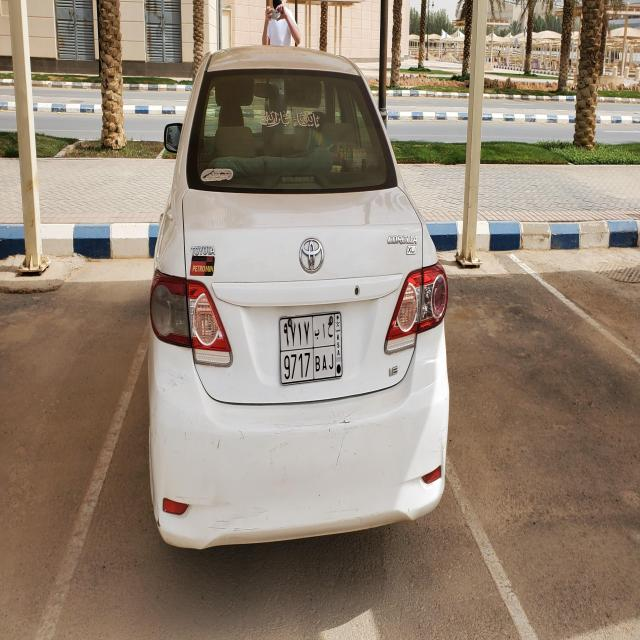license_plate: (276, 309, 344, 388)
